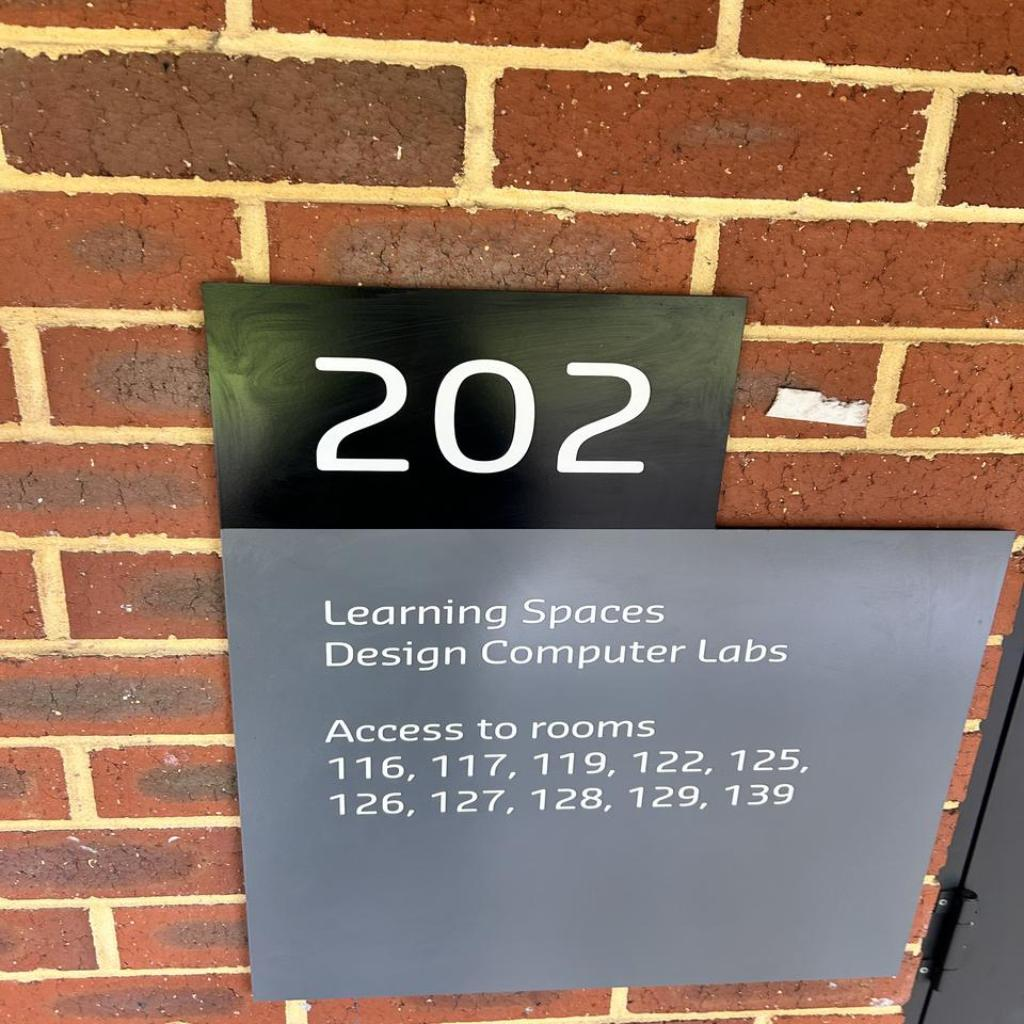BuildingCodes: (290, 342, 658, 482)
